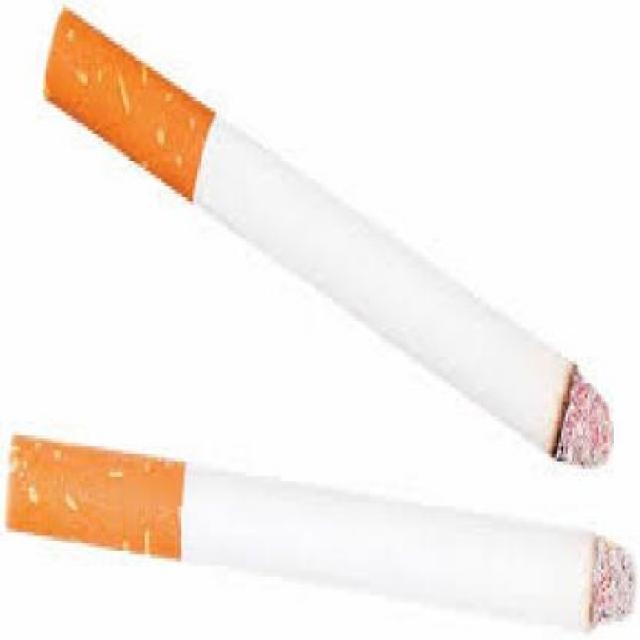cigarette: (37, 4, 612, 473), (0, 427, 632, 629)
